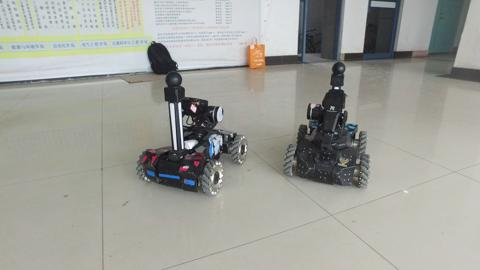chariot: (122, 69, 251, 206), (282, 53, 376, 193)
